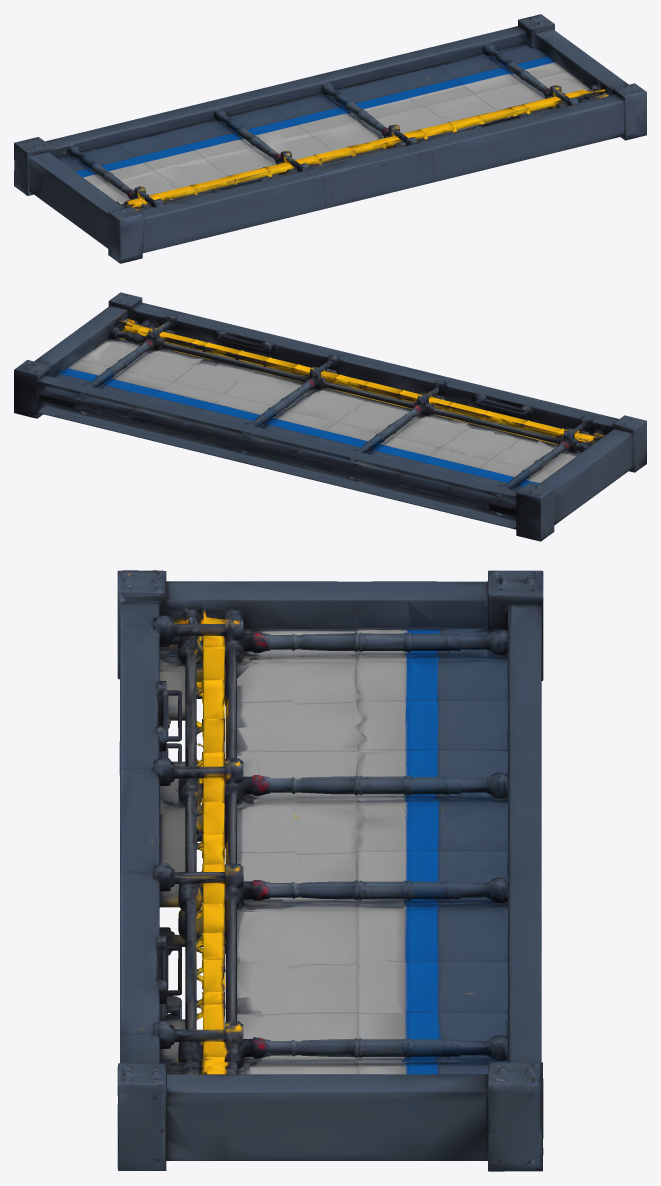
File: stena.glb
The picture shows the model from 3 angles, top to bottom: view 1: azimuth 30°, elevation 25°; view 2: azimuth 150°, elevation 25°; view 3: azimuth 270°, elevation 25°; orthographic projection. The views are drawn at different scales.
Visible parts, largest first — view 1: stena; view 2: stena; view 3: stena.
Part boxes in pixels (left/top/right/bottom): stena: left=14, top=14, right=646, bottom=263; stena: left=14, top=292, right=646, bottom=541; stena: left=117, top=570, right=543, bottom=1171.
Size of the model in its own units: 11.44 by 1.01 by 4.
Materials: 1 (1 with a texture image).
